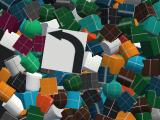Left: (41, 27, 88, 75)
